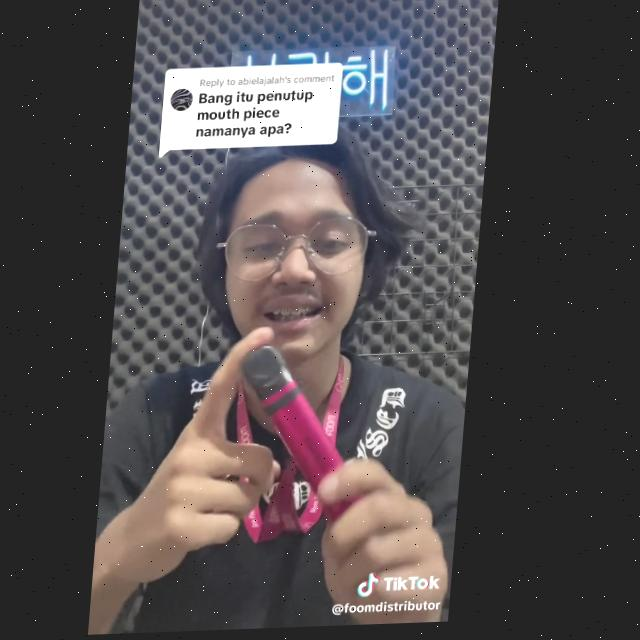vape: (233, 343, 376, 523)
